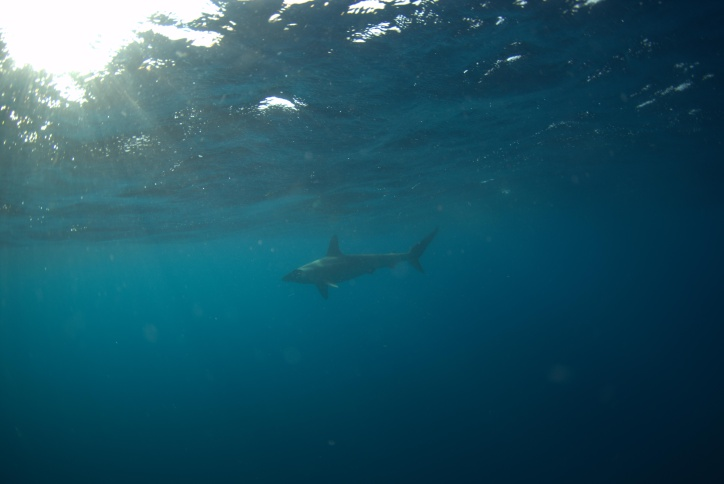Hammer: (271, 217, 449, 304)
